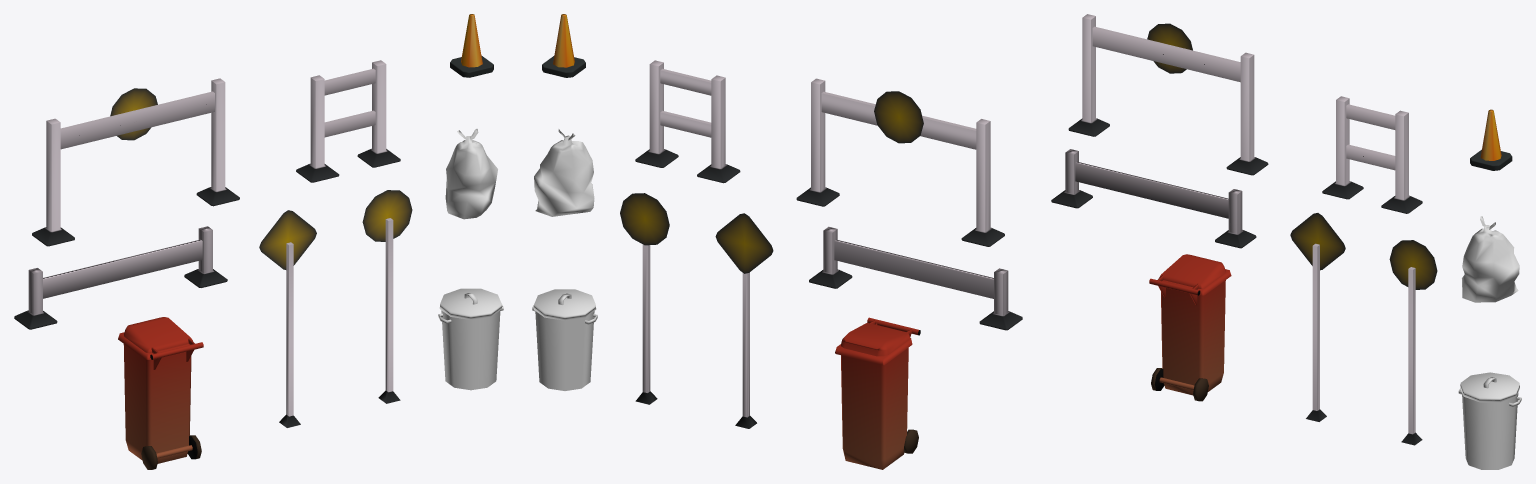
Rendered from SM_ER_ObstacleATLAS.fbx.
3 views of the same model, side by side, from view 1: azimuth 30°, elevation 25°; view 2: azimuth 150°, elevation 25°; view 3: azimuth 330°, elevation 25° (orthographic). The views are drawn at different scales.
Parts seen in each view (by area): view 1: SM_ER_WheelyBin, SM_ER_RoadWorkHigh, SM_ER_RoadWorkLow, SM_ER_Bin, SM_ER_RoadWorkDouble, SM_ER_RoadSignA, SM_ER_RoadSignB, SM_ER_BinBag, SM_ER_Cone; view 2: SM_ER_WheelyBin, SM_ER_RoadWorkHigh, SM_ER_RoadWorkLow, SM_ER_Bin, SM_ER_RoadWorkDouble, SM_ER_BinBag, SM_ER_RoadSignA, SM_ER_RoadSignB, SM_ER_Cone; view 3: SM_ER_WheelyBin, SM_ER_RoadWorkHigh, SM_ER_RoadWorkLow, SM_ER_Bin, SM_ER_RoadWorkDouble, SM_ER_BinBag, SM_ER_RoadSignB, SM_ER_RoadSignA, SM_ER_Cone.
Boxes of the visible parts, x1,y1,x2,y2 form: SM_ER_WheelyBin: (118, 317, 203, 469); SM_ER_RoadWorkHigh: (32, 78, 239, 246); SM_ER_RoadWorkLow: (14, 226, 227, 329); SM_ER_Bin: (438, 288, 503, 390); SM_ER_RoadWorkDouble: (296, 60, 400, 182); SM_ER_RoadSignA: (362, 190, 412, 403); SM_ER_RoadSignB: (259, 210, 316, 427); SM_ER_BinBag: (445, 129, 497, 219); SM_ER_Cone: (450, 14, 493, 77); SM_ER_WheelyBin: (835, 317, 920, 469); SM_ER_RoadWorkHigh: (796, 78, 1004, 246); SM_ER_RoadWorkLow: (809, 226, 1022, 330); SM_ER_Bin: (532, 289, 597, 390); SM_ER_RoadWorkDouble: (635, 60, 740, 183); SM_ER_BinBag: (534, 129, 594, 216); SM_ER_RoadSignA: (620, 193, 669, 404); SM_ER_RoadSignB: (715, 213, 773, 428); SM_ER_Cone: (542, 14, 585, 77); SM_ER_WheelyBin: (1149, 254, 1231, 401); SM_ER_RoadWorkHigh: (1068, 14, 1268, 175); SM_ER_RoadWorkLow: (1051, 149, 1256, 248); SM_ER_Bin: (1458, 372, 1521, 469); SM_ER_RoadWorkDouble: (1322, 96, 1422, 213); SM_ER_BinBag: (1462, 216, 1519, 302); SM_ER_RoadSignB: (1290, 213, 1345, 421); SM_ER_RoadSignA: (1389, 240, 1437, 445); SM_ER_Cone: (1470, 109, 1512, 170).
Size of the model in its own units: 1395 by 1032 by 183.
